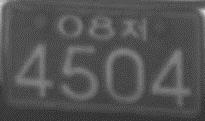0: (104, 46, 146, 104), (56, 12, 84, 38)
4: (150, 48, 191, 109), (14, 42, 54, 97)
5: (59, 43, 101, 101)
8: (87, 15, 115, 41)
저: (119, 16, 149, 42)
